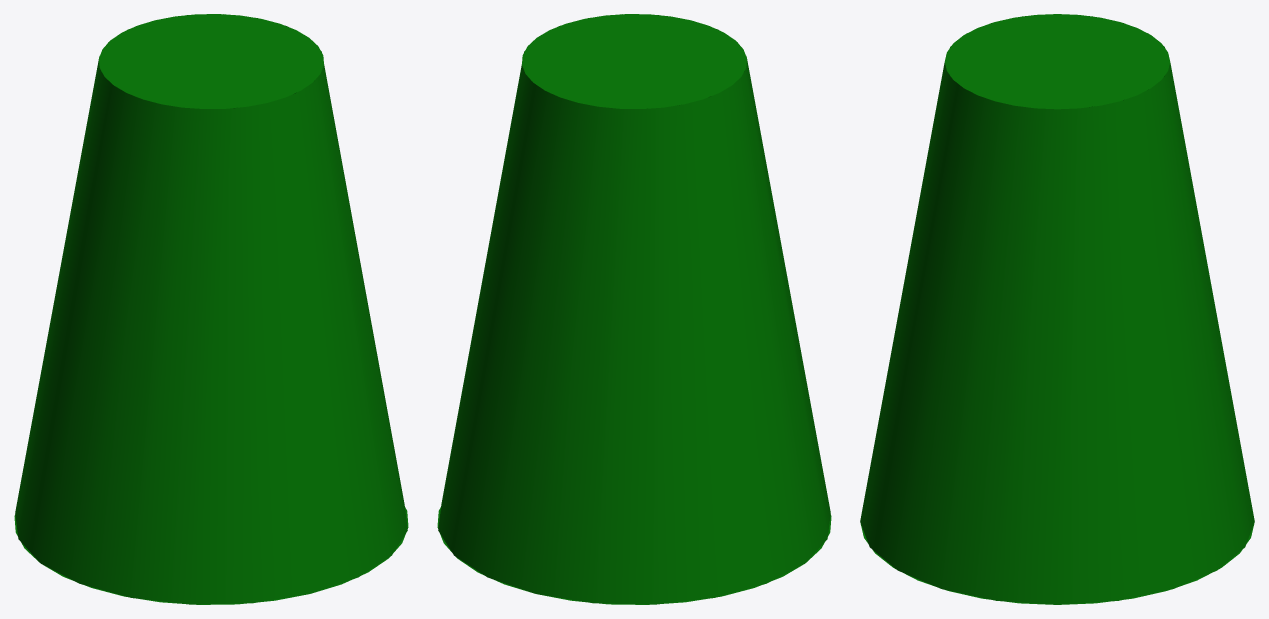
File: Image-1710907554885-2281405402464_20-2002PV-A.fbx
3 views of the same model, side by side, from view 1: azimuth 30°, elevation 25°; view 2: azimuth 150°, elevation 25°; view 3: azimuth 270°, elevation 25° (orthographic).
Visible parts, largest first — view 1: CONE 1 of EQUIPMENT /20-2002PV-A; view 2: CONE 1 of EQUIPMENT /20-2002PV-A; view 3: CONE 1 of EQUIPMENT /20-2002PV-A.
Boxes of the visible parts, x1=… form: CONE 1 of EQUIPMENT /20-2002PV-A: x1=14, y1=14, x2=408, y2=604; CONE 1 of EQUIPMENT /20-2002PV-A: x1=437, y1=14, x2=831, y2=604; CONE 1 of EQUIPMENT /20-2002PV-A: x1=860, y1=14, x2=1254, y2=604.
Size of the model in its own units: 0.7 by 0.7 by 0.9.
